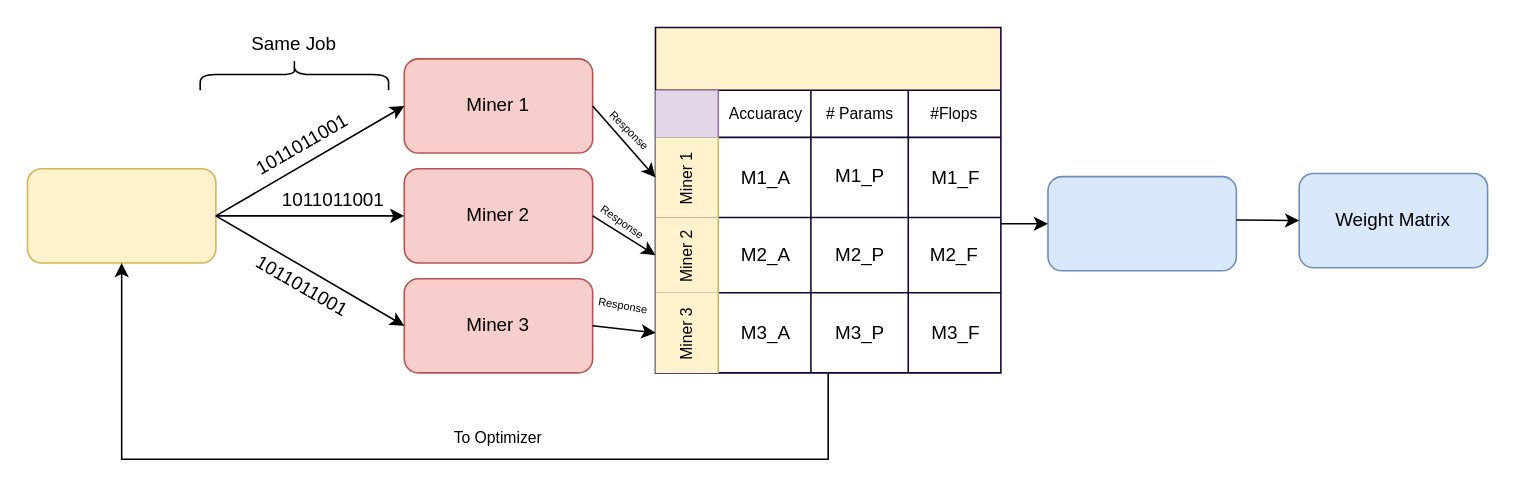
This 1515x499 diagram has some shape labels left out. The shapes that lost their labels are listed below. From the top down, each one's box as (x1, y1, x2, y2) in pixels, then its label:
(26, 167, 216, 263): GenoMaster
(654, 26, 1001, 373): Evaluation Batch for Genome: 1011011001
(1046, 175, 1236, 271): Validator PoW Scoring
